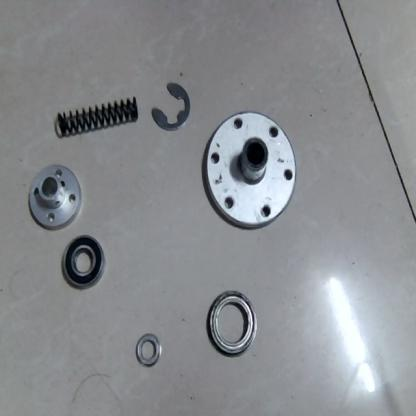FOD: (200, 107, 299, 230), (51, 90, 140, 140), (206, 287, 258, 360), (27, 163, 82, 232), (60, 230, 104, 290), (149, 79, 192, 136), (134, 332, 162, 369)
